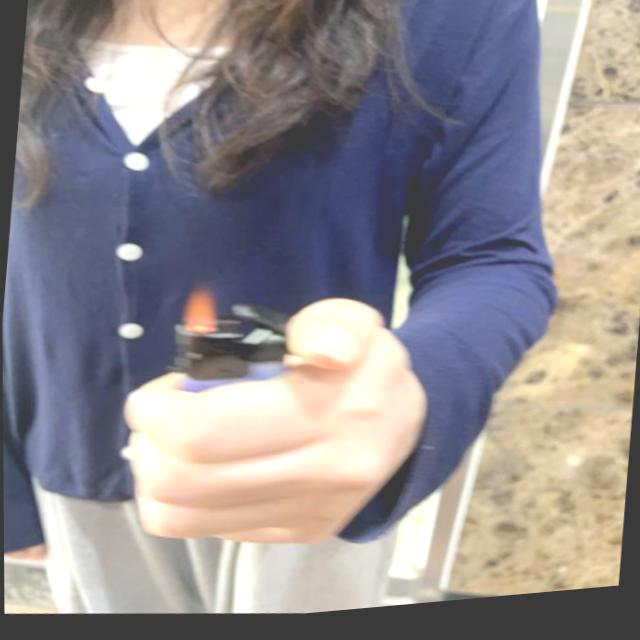Fire: (177, 283, 224, 338)
